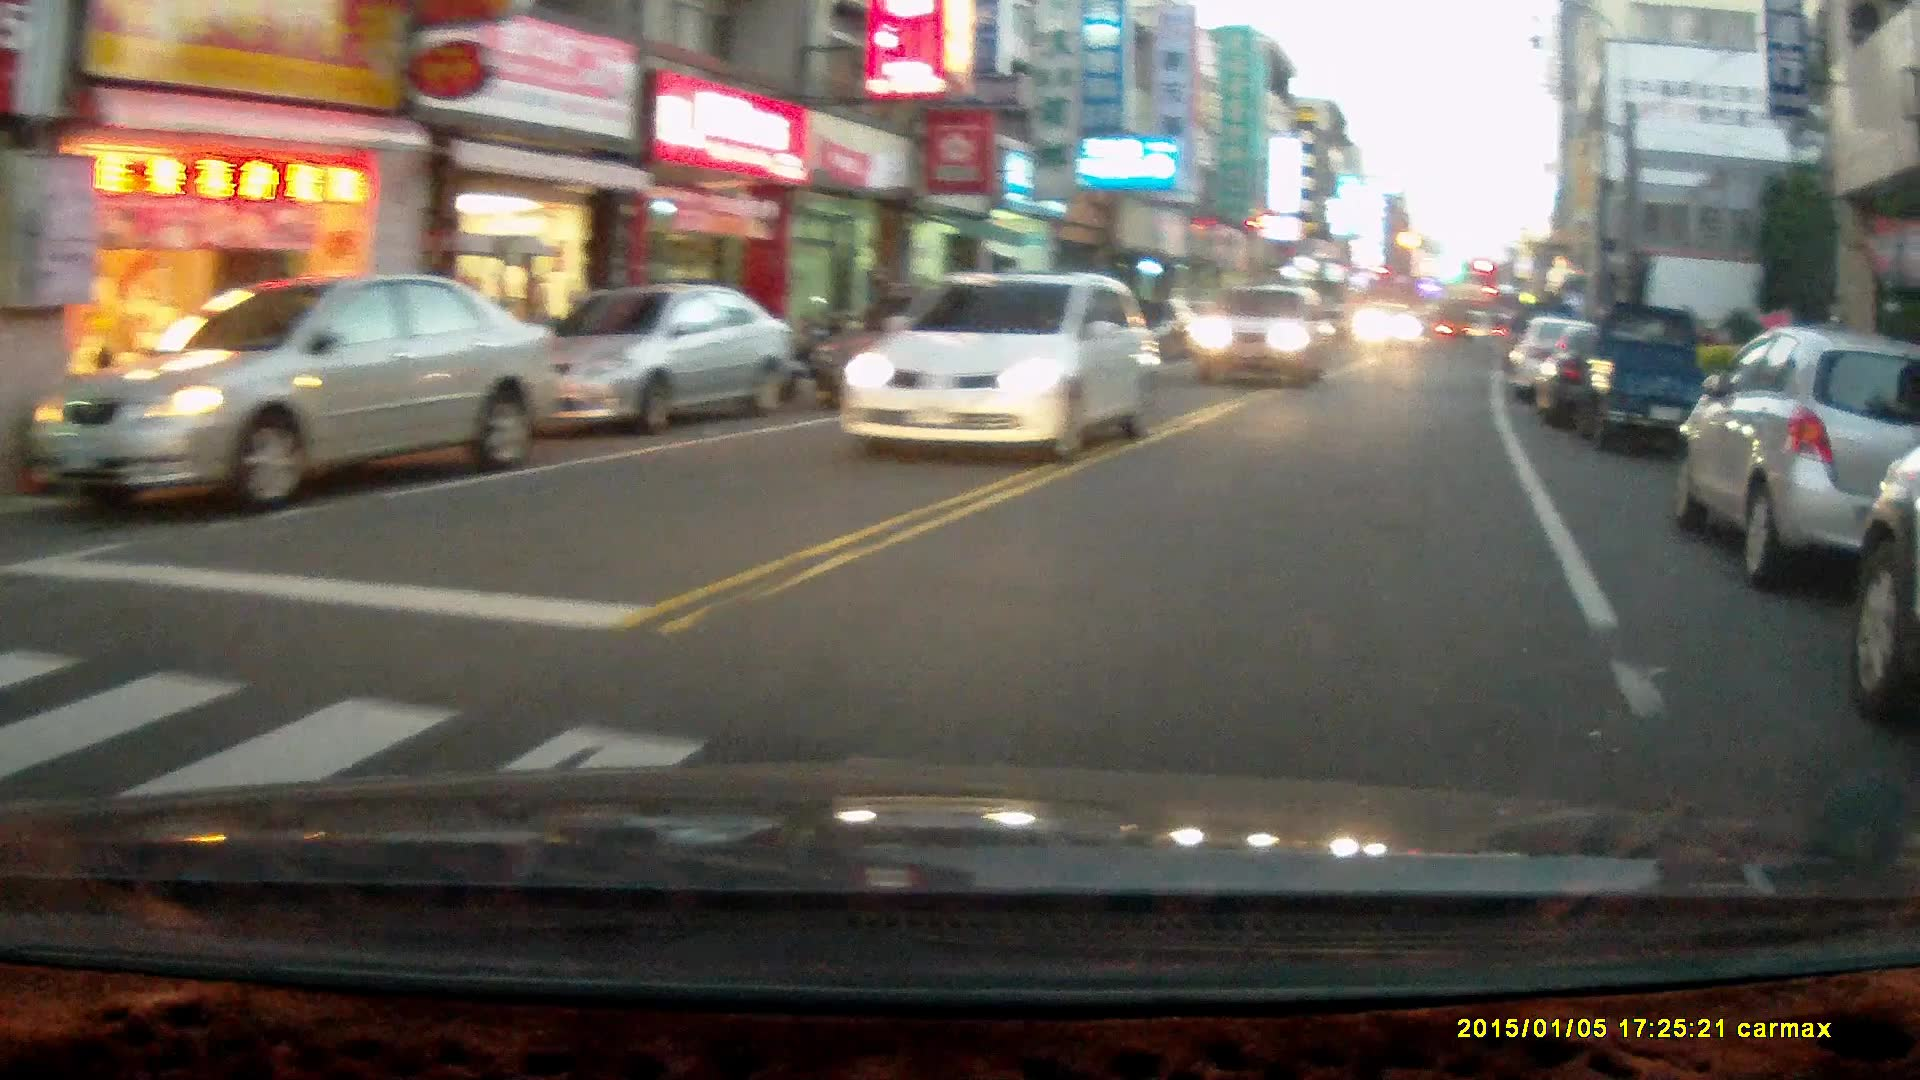vehicle: (21, 276, 556, 513), (1664, 327, 1920, 593), (836, 269, 1168, 465), (498, 282, 796, 434), (1560, 302, 1730, 458), (1193, 284, 1344, 386), (1503, 316, 1642, 411), (1356, 303, 1429, 352)
